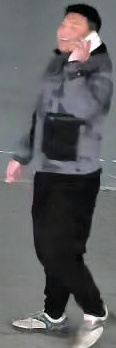phone: (60, 19, 114, 125)
